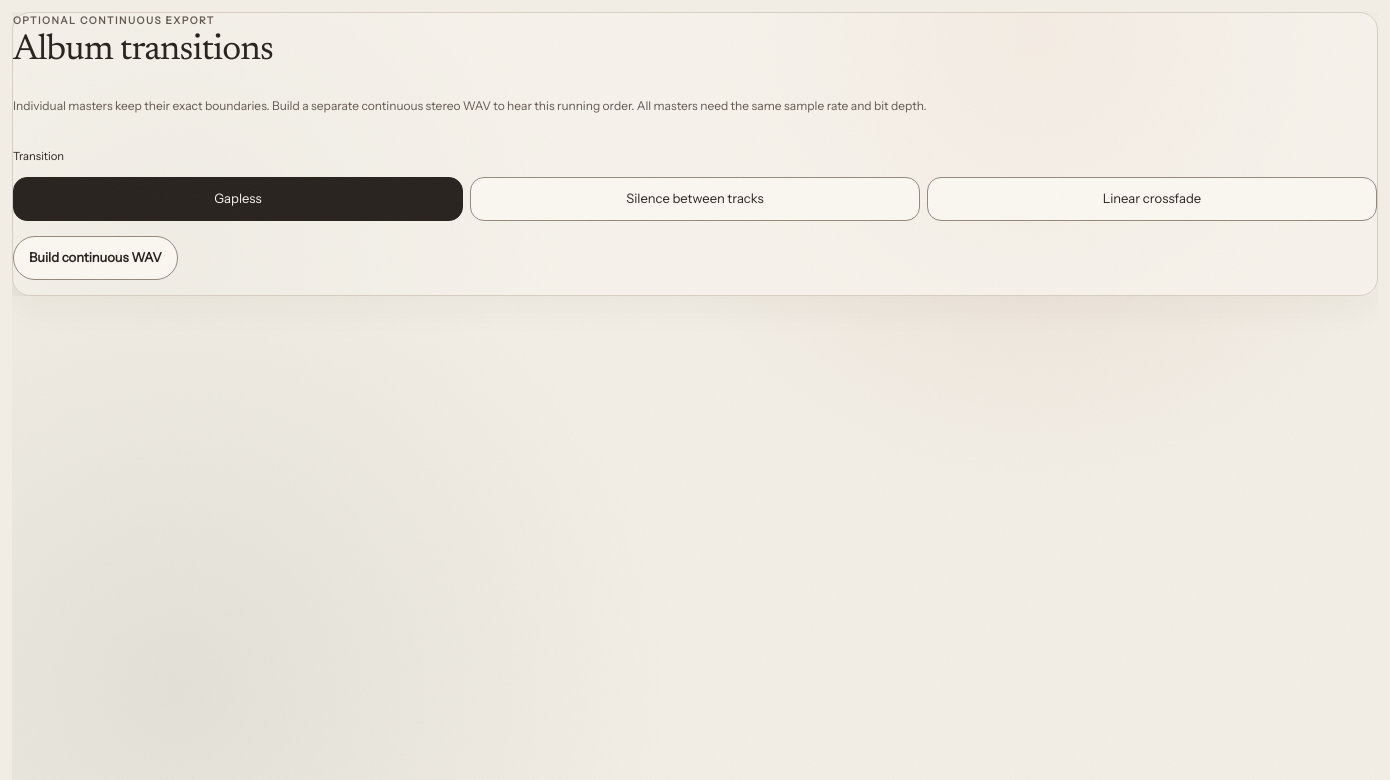
Test case: continuous album ownership › disposes a held preview when transition settings change
Click the button "Build continuous WAV" at (95, 258), box [13,236,178,280]
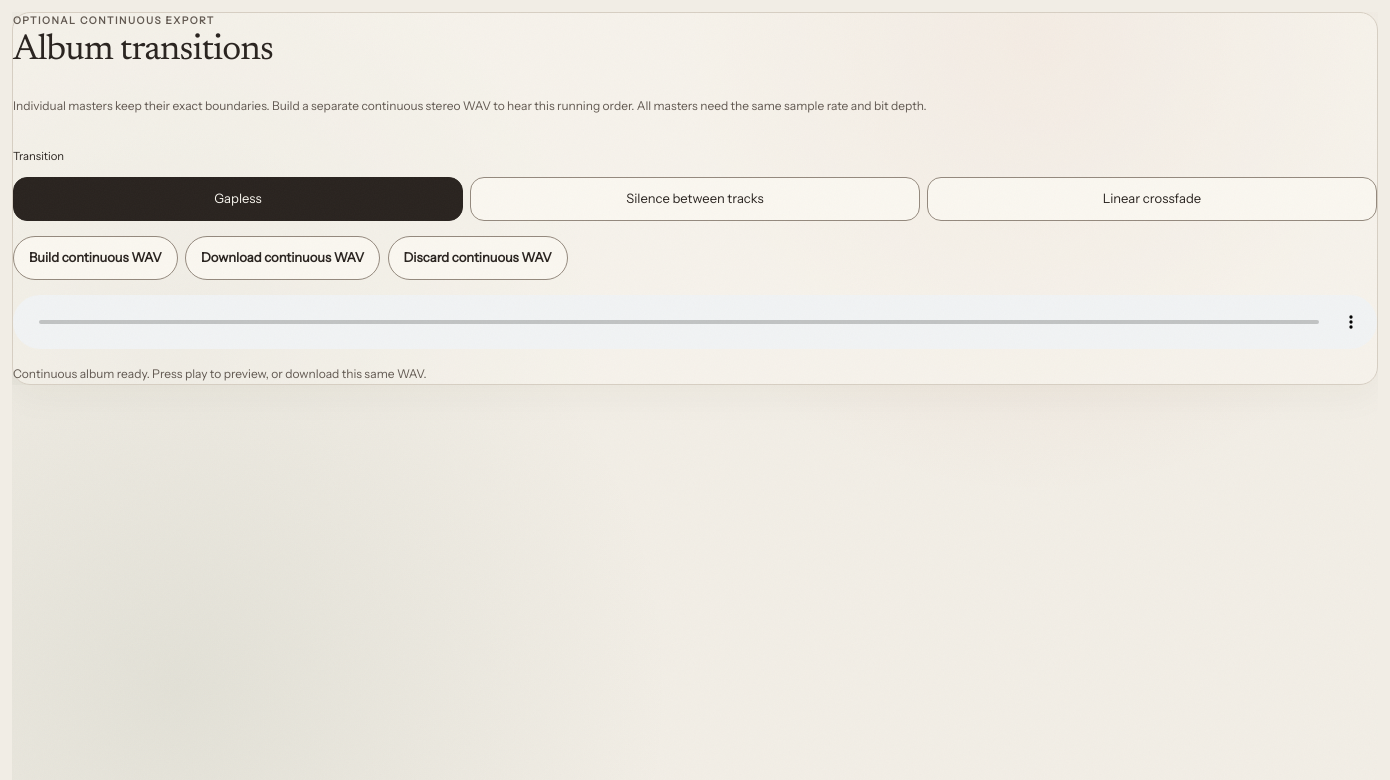
Result: the button "Download continuous WAV" is shown at [185,236,380,280]
